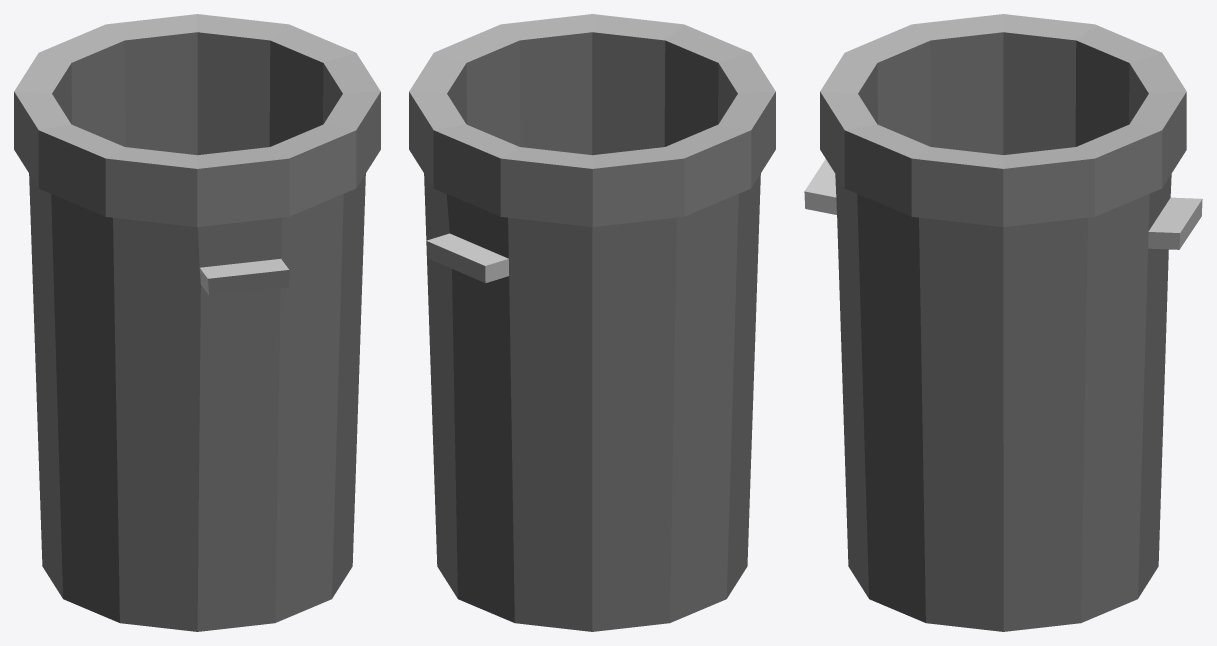
The model's file is TrashCan.fbx.
The picture shows the model from 3 angles, left to right: view 1: azimuth 30°, elevation 25°; view 2: azimuth 150°, elevation 25°; view 3: azimuth 270°, elevation 25°; orthographic projection.
Parts seen in each view (by area): view 1: TrashGray; view 2: TrashGray; view 3: TrashGray.
Part boxes in pixels (<box>): TrashGray: <box>14,14,380,631</box>; TrashGray: <box>409,14,775,631</box>; TrashGray: <box>804,14,1202,631</box>.
Bounding box in the file's own units: 0.8496 × 0.9224 × 1.21.
